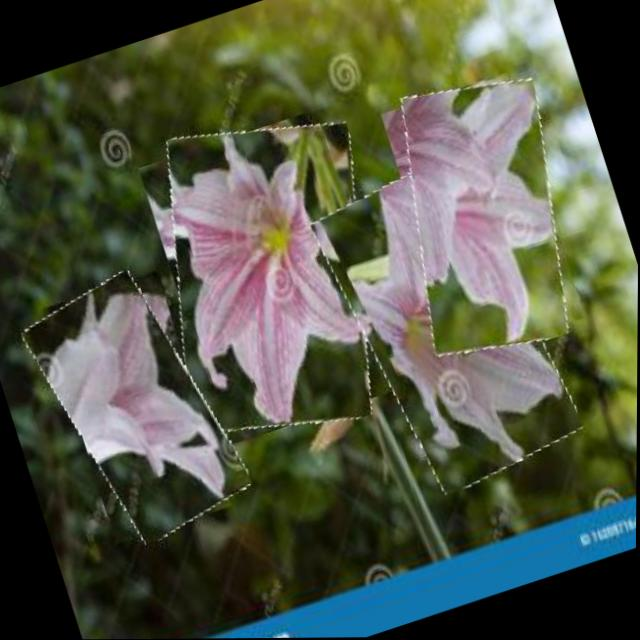Flower: (121, 98, 421, 460), (315, 147, 583, 505), (368, 65, 601, 370), (26, 262, 249, 555)
